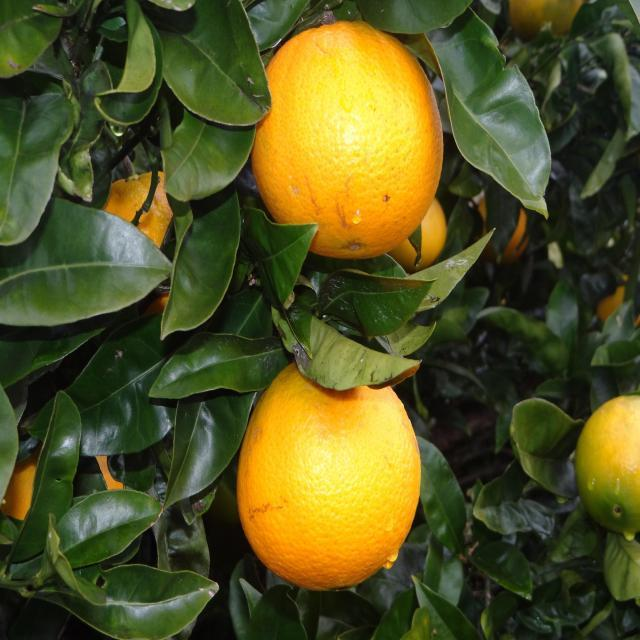Jeruk Sudah Matang: (253, 20, 446, 263), (238, 348, 423, 593), (96, 157, 210, 270), (577, 394, 640, 537), (498, 0, 594, 35), (90, 446, 140, 506), (1, 464, 46, 524)
